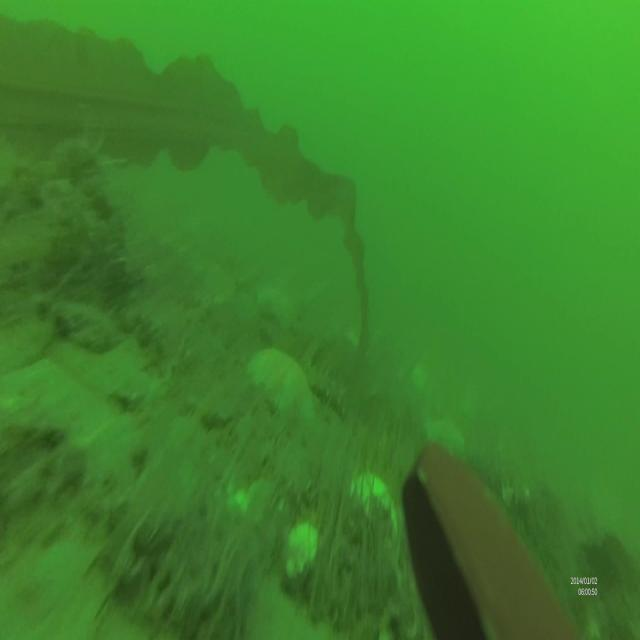holothurian: (306, 364, 349, 420)
starfish: (252, 344, 312, 435), (254, 274, 298, 336), (426, 410, 466, 462)
